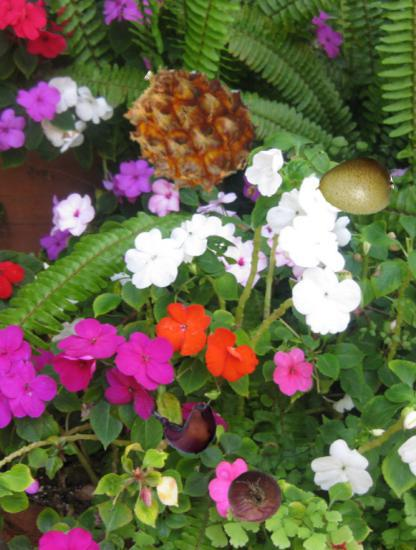Banana: (157, 399, 218, 460)
Onion: (226, 469, 283, 526)
Pear: (316, 149, 393, 226)
Pineapple: (123, 62, 258, 197)
